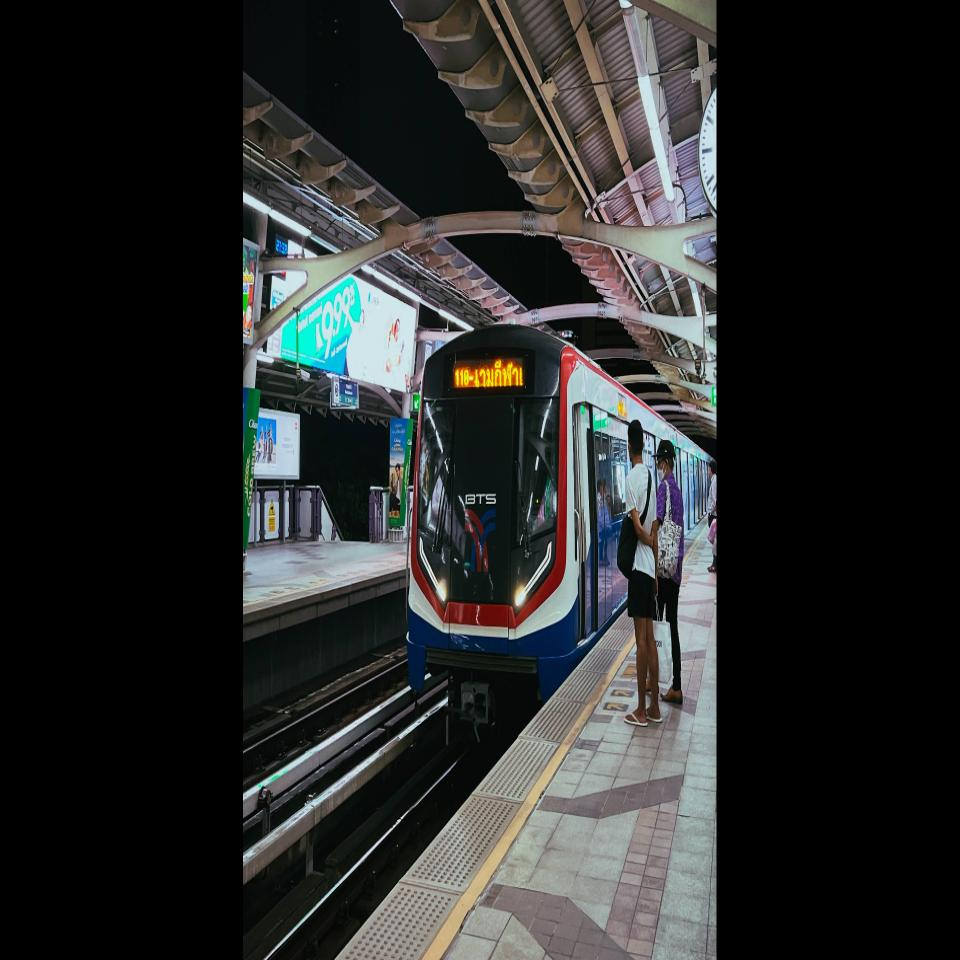signage: (344, 378, 354, 409)
